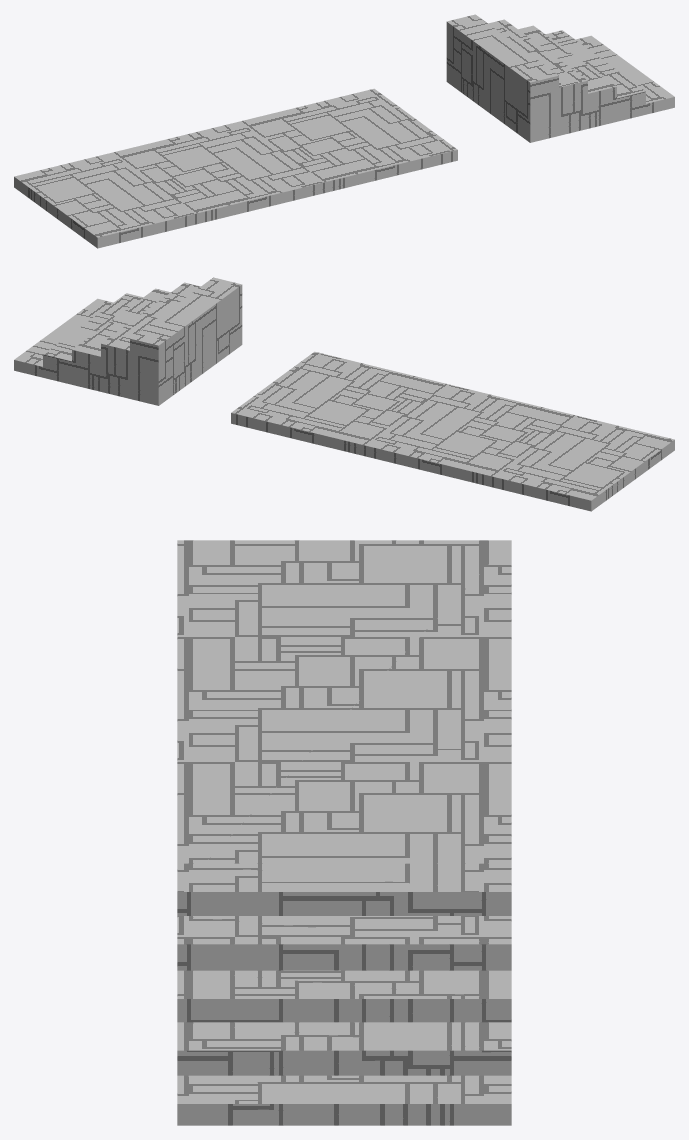
The model's file is badstairs.obj.
3 renders of one model, top to bottom at view 1: azimuth 30°, elevation 25°; view 2: azimuth 150°, elevation 25°; view 3: azimuth 270°, elevation 25°, orthographic. The views are drawn at different scales.
Visible parts, largest first — view 1: Cube; view 2: Cube; view 3: Cube.
Part boxes in pixels (bbox=[...]): Cube: bbox=[14, 14, 674, 248]; Cube: bbox=[14, 277, 674, 511]; Cube: bbox=[177, 540, 511, 1125].
Bounding box in the file's own units: 7.98 × 0.7964 × 2.
1 material, 1 textured.
